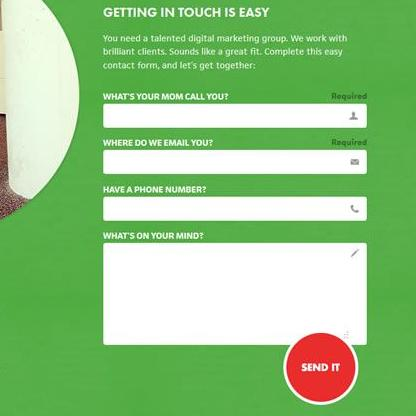button: (281, 332, 359, 407)
field: (103, 241, 369, 346), (101, 102, 367, 129), (102, 148, 368, 175), (102, 196, 368, 222)
field_with_label: (101, 229, 371, 350), (99, 137, 370, 178), (100, 185, 371, 224), (99, 91, 369, 130)
